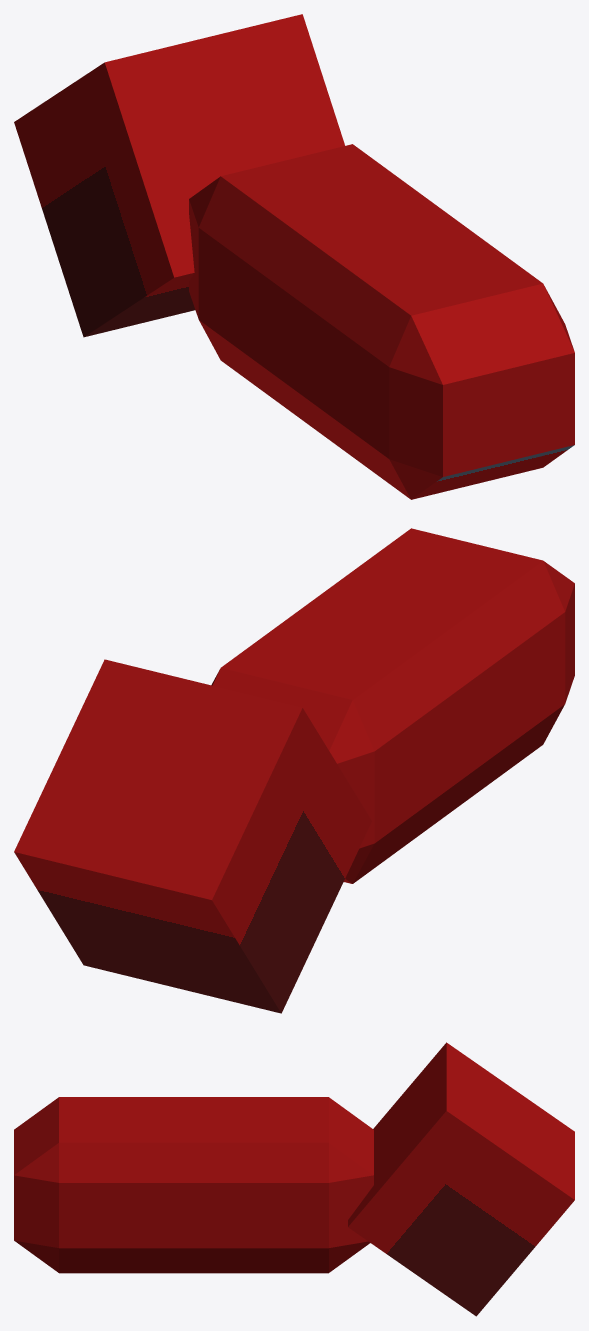
The model's file is RedArm.gltf.
3 views of the same model, one above another, from view 1: azimuth 30°, elevation 25°; view 2: azimuth 150°, elevation 25°; view 3: azimuth 270°, elevation 25° (orthographic). The views are drawn at different scales.
Parts seen in each view (by area): view 1: beveled_cuboid, cuboid; view 2: cuboid, beveled_cuboid; view 3: beveled_cuboid, cuboid.
Part boxes in pixels (x1,y1,x2,y2): beveled_cuboid: (189,144,574,499); cuboid: (14,14,344,337); cuboid: (14,659,371,1013); beveled_cuboid: (211,528,574,883); beveled_cuboid: (14,1097,373,1273); cuboid: (348,1042,574,1316).
Bounding box in the file's own units: 0.2812 × 0.3943 × 0.9744.
Materials: 1 (1 with a texture image).
